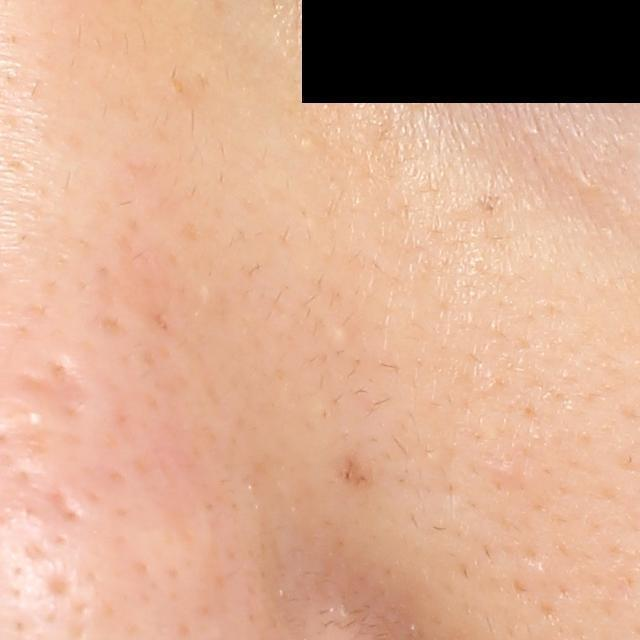atrophic_scar: (8, 348, 99, 424), (52, 484, 91, 526)
comedo: (331, 326, 353, 346)
